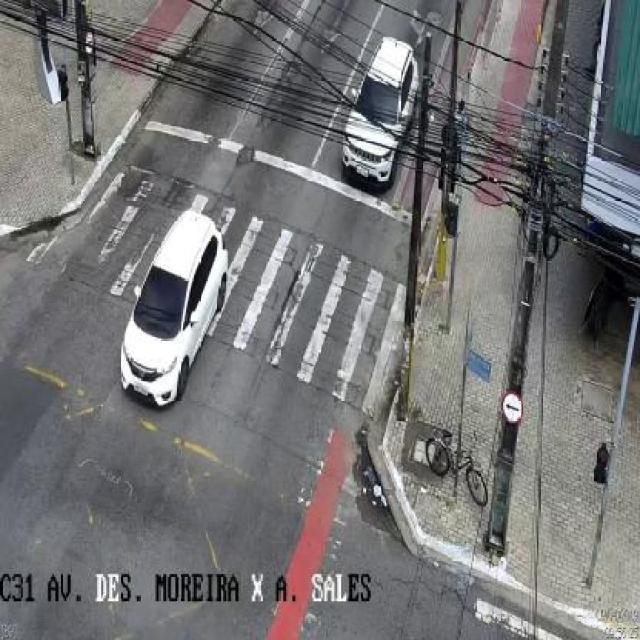Car: (118, 208, 230, 408), (340, 34, 422, 188)
Cycle: (425, 427, 489, 507)
